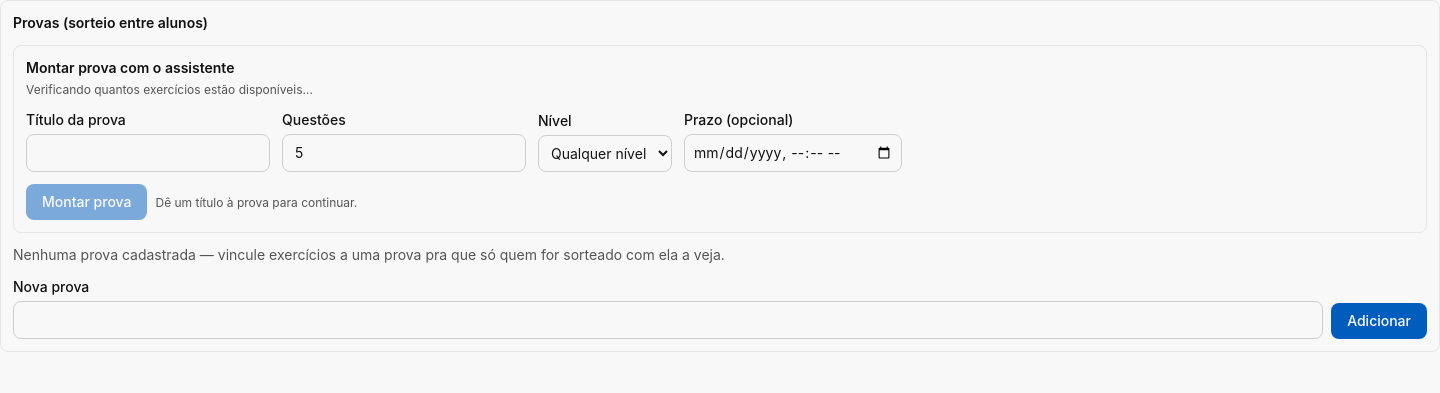
Test: ProvasPainel › shows a validation error when submitted with an empty título
Click the button "Adicionar".
click(1379, 321)  # box [1331,303,1427,339]
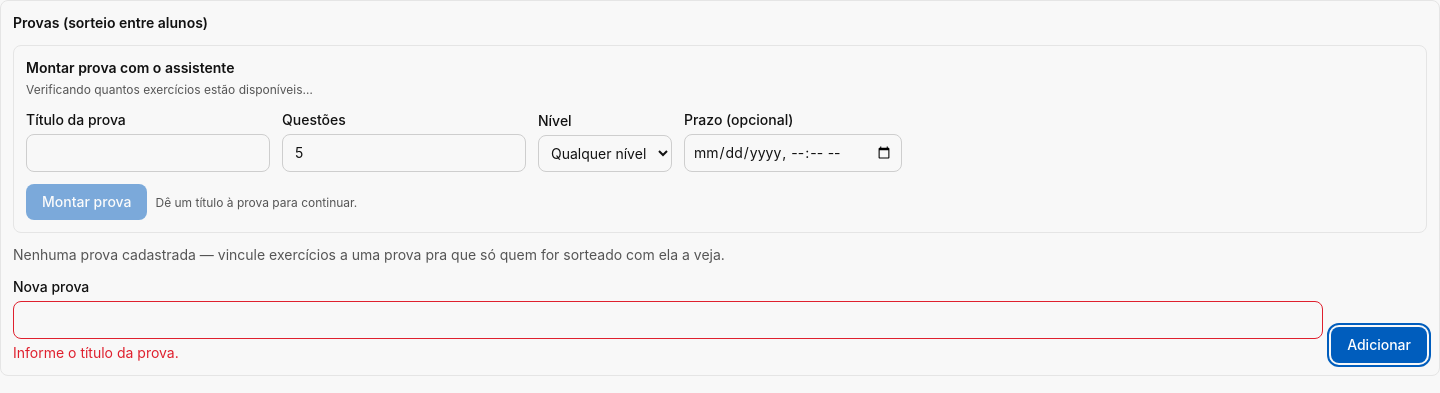
Check: the text "Informe o título da prova." is shown, box [13,344,179,361]
